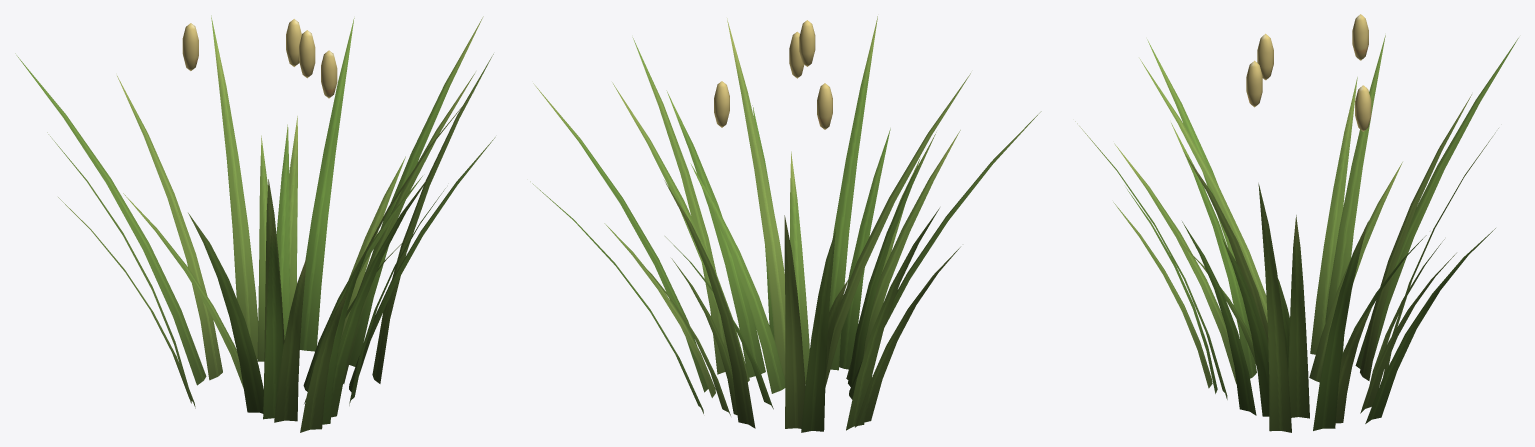
Rendered from tall_grass.glb.
3 renders of one model, left to right at view 1: azimuth 30°, elevation 25°; view 2: azimuth 150°, elevation 25°; view 3: azimuth 270°, elevation 25°, orthographic. The views are drawn at different scales.
Visible parts, largest first — view 1: TallGrass_leaf; view 2: TallGrass_leaf; view 3: TallGrass_leaf.
Boxes of the visible parts, x1,y1,x2,y2 form: TallGrass_leaf: (15, 15, 495, 432); TallGrass_leaf: (530, 16, 1041, 432); TallGrass_leaf: (1075, 14, 1518, 432).
Bounding box in the file's own units: 1.71 × 1.39 × 1.56.
Materials: 1 (1 with a texture image).
